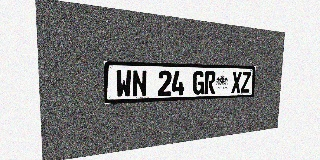2: (158, 70, 172, 96)
4: (172, 71, 185, 96)
G: (193, 71, 205, 95)
N: (132, 70, 147, 97)
R: (204, 71, 216, 94)
W: (116, 70, 132, 98)
X: (231, 72, 242, 93)
Z: (241, 72, 251, 93)
